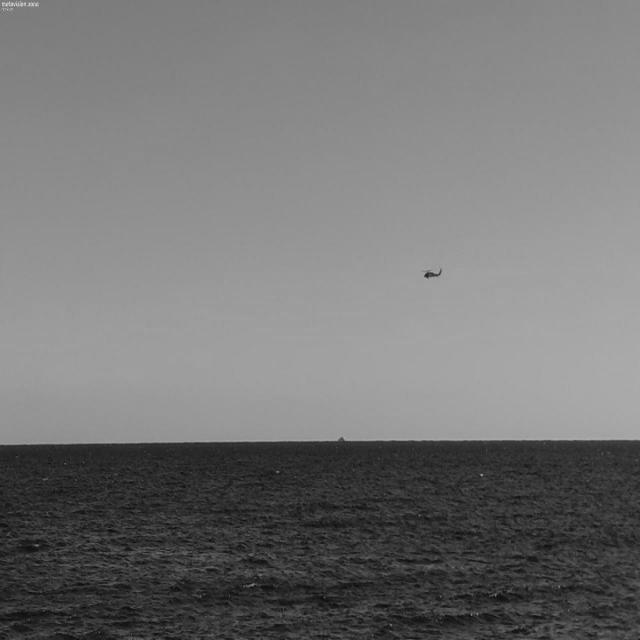helikopter: (409, 252, 457, 300)
